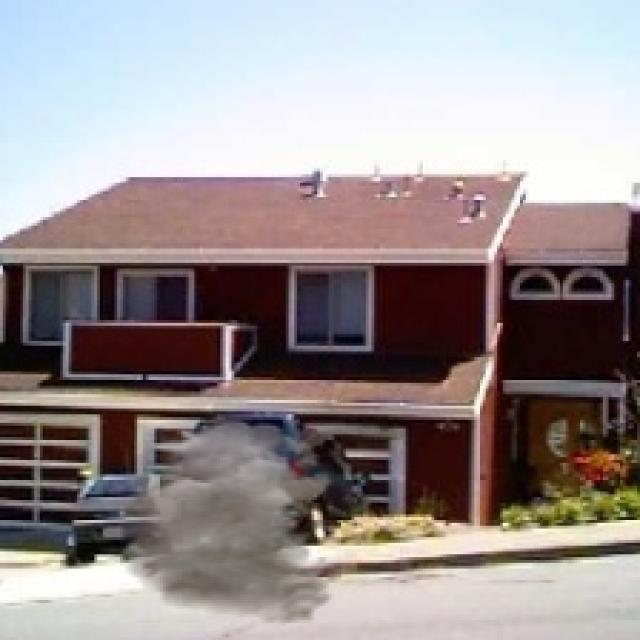smoke: (91, 420, 340, 626)
